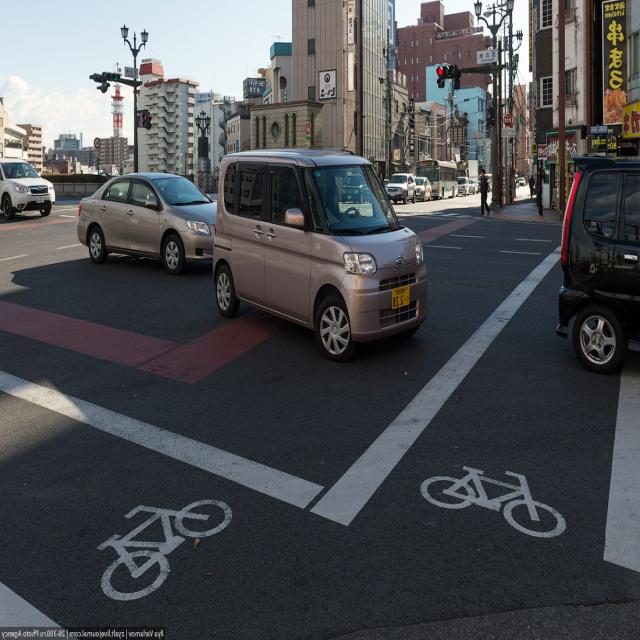car: (210, 149, 429, 362), (557, 138, 640, 374), (74, 171, 216, 271), (1, 156, 53, 217)
